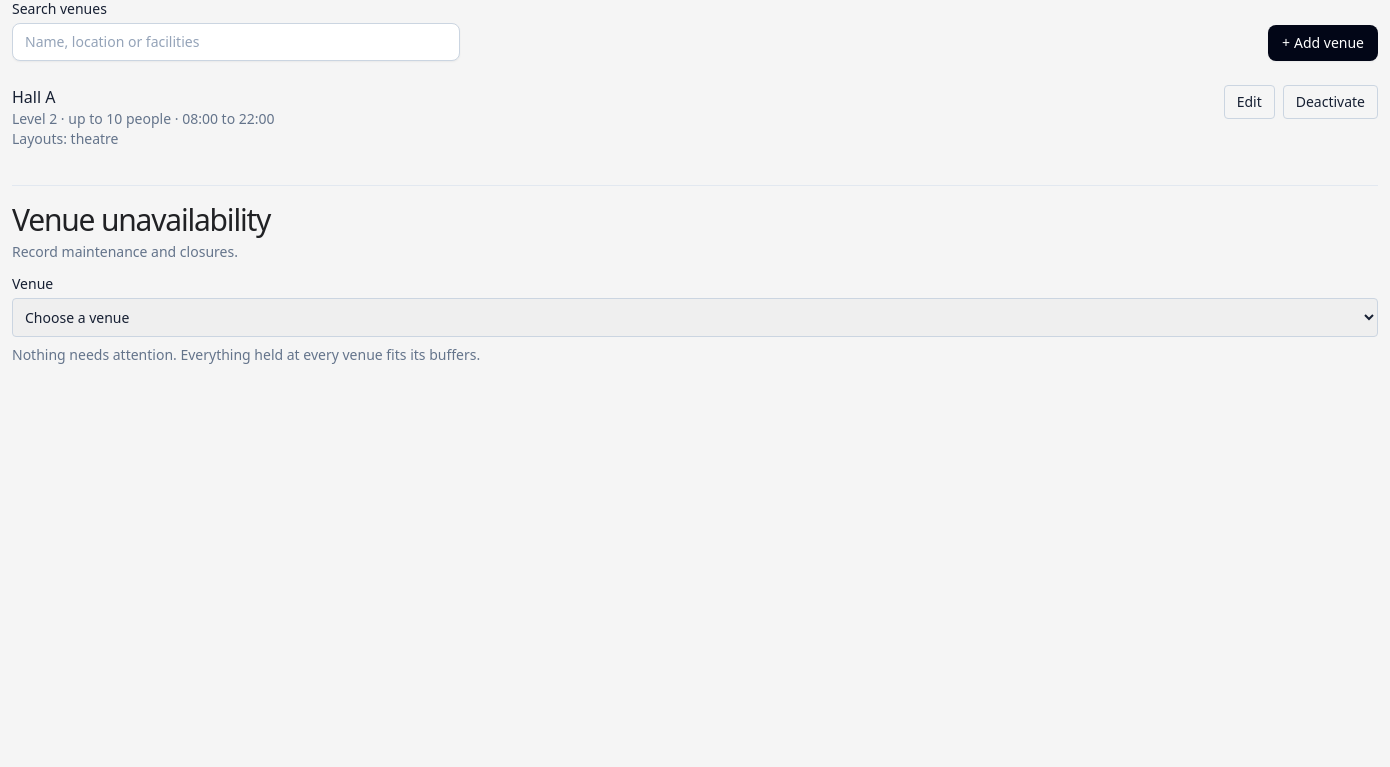
it: SCRUM-89 AC6: saving a venue refreshes this panel instead of leaving it stale
Expected: the text "Nothing needs attention" is shown, [12, 345, 480, 364]
Click the button with aria-label "Edit Hall A": [1249, 102] box [1224, 85, 1275, 119]
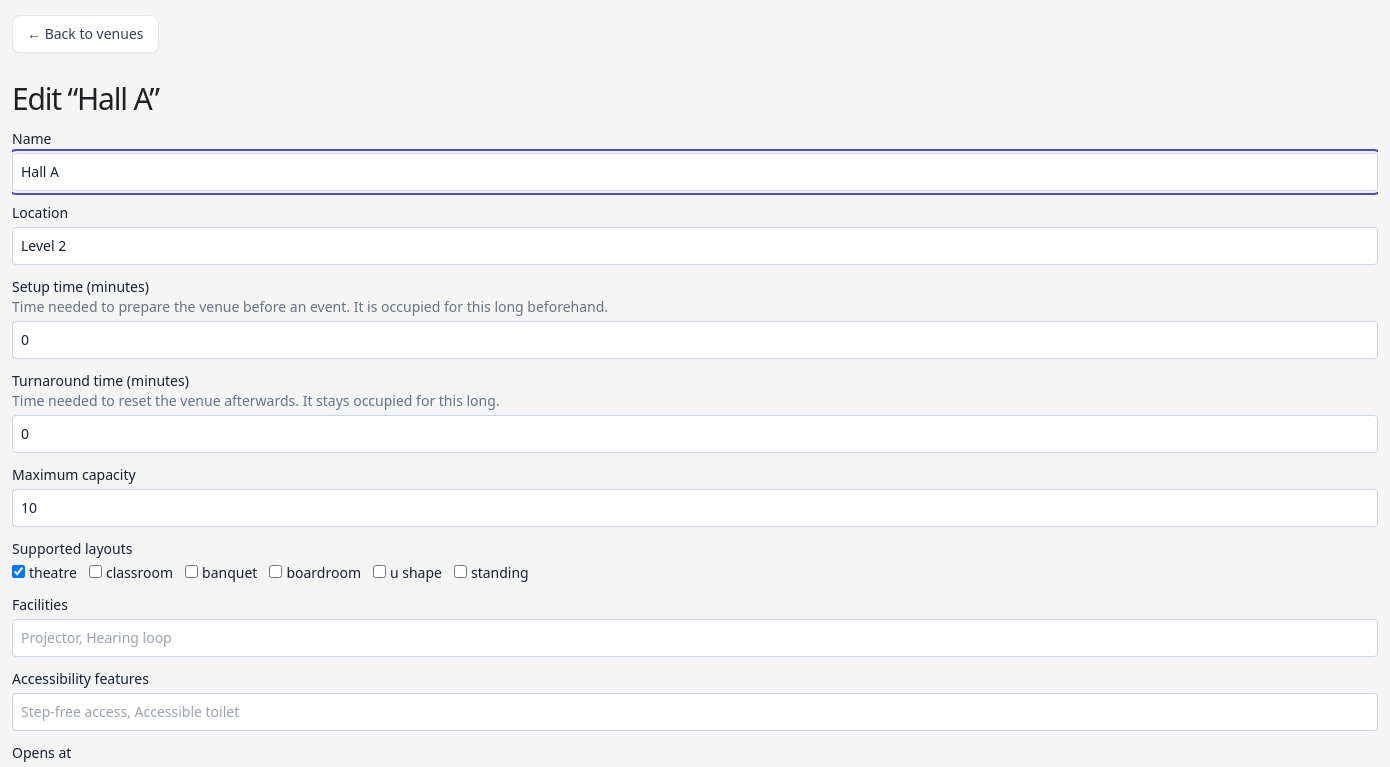
Replace the text in the number field labelled "Turnaround time" with "45": [695, 434] box [12, 415, 1378, 453]
(page scrolled)
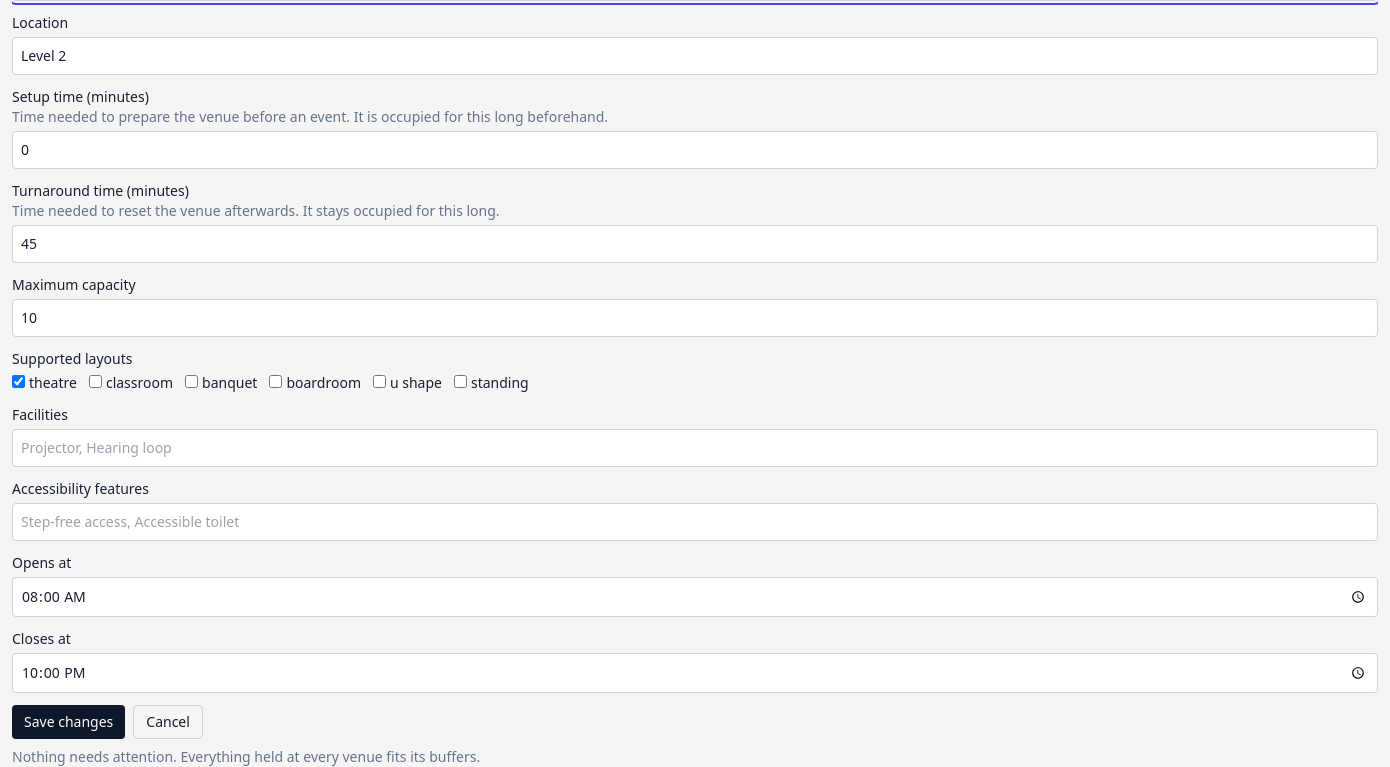
Click the button "Save changes": [69, 722] box [12, 705, 125, 739]
(page scrolled)
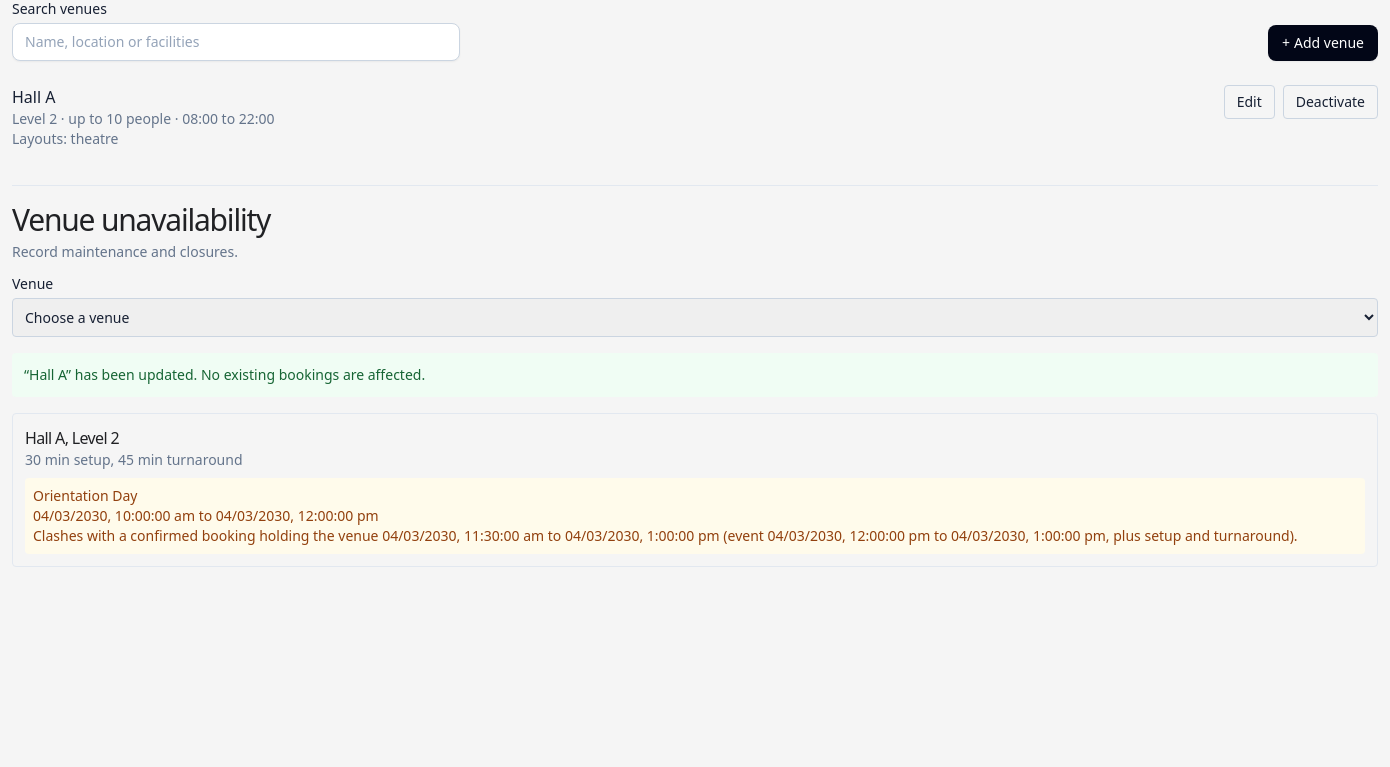
Now the text "Nothing needs attention" is gone
